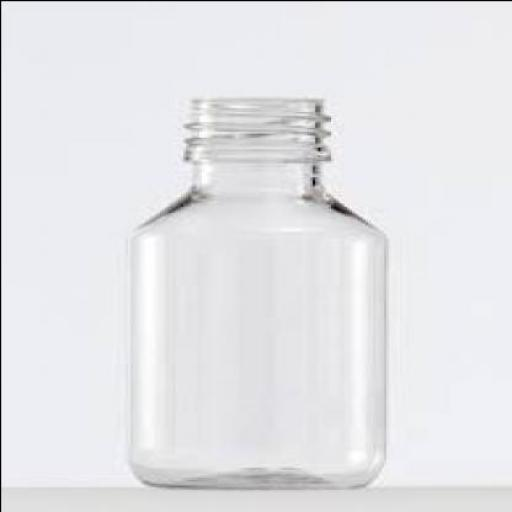glass: (124, 95, 388, 486)
